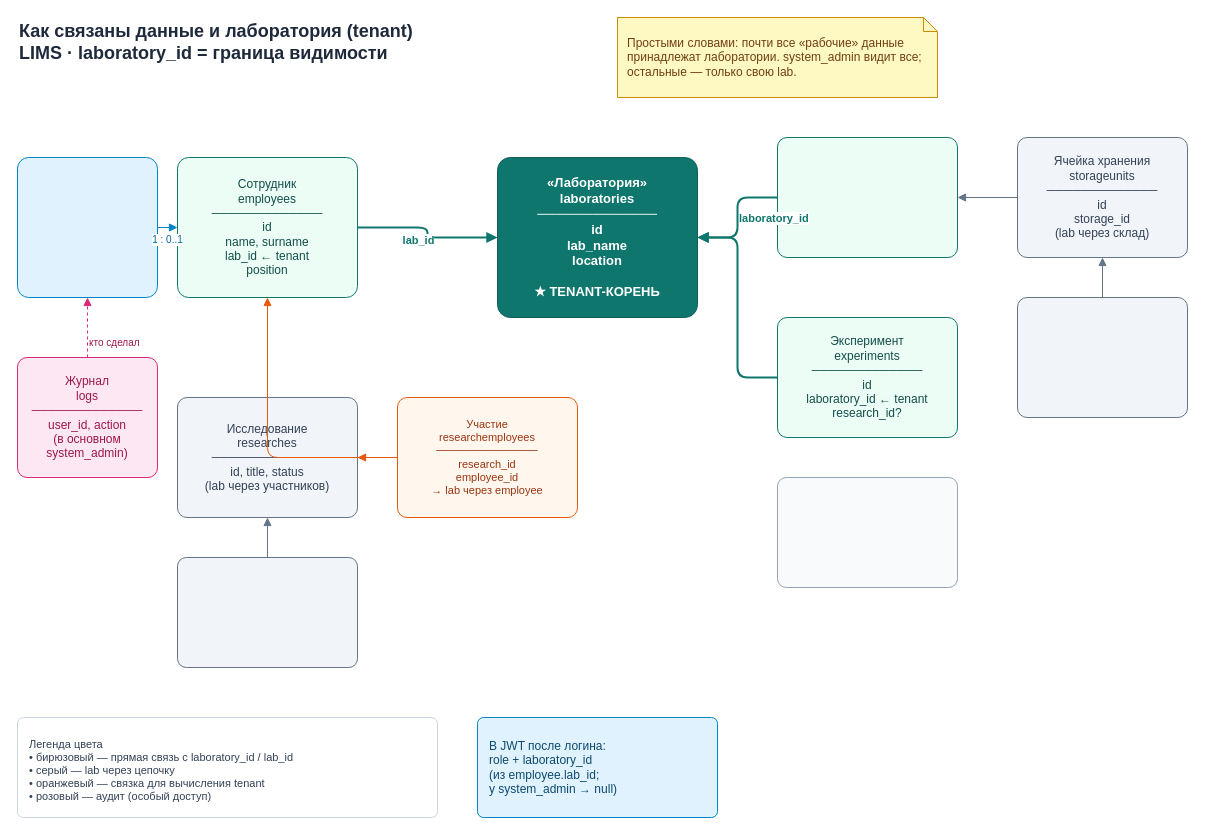
Image size: 1205x835. Some labels were removed from this diagram. Each missing label, with the centre of its shape:
"Задача tasks ───────────── id, research_id assignee… (lab через research)" goes at point 267,612.
"Лот / инвентарь inventories ───────────── id, qty, status (lab: unit → storage)" goes at point 1102,357.
"Оборудование chemequipments ───────────── справочник / парк (mutating: admin)" goes at point 867,532.
"Склад chemstorages ───────────── id laboratory_id ← tenant name" goes at point 867,197.
"Учётка users ───────────── id, email password (bcrypt) role (4 роли) employee_id" goes at point 87,227.
